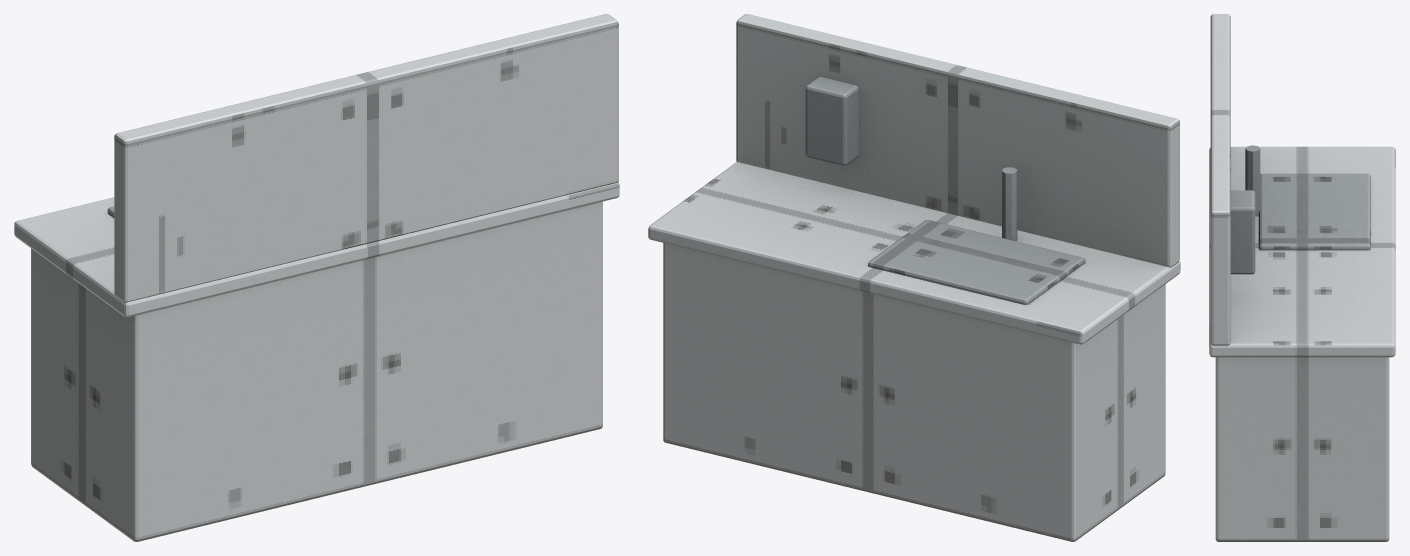
Rendered from base_med_sink.glb.
3 views of the same model, side by side, from view 1: azimuth 30°, elevation 25°; view 2: azimuth 150°, elevation 25°; view 3: azimuth 270°, elevation 25° (orthographic). The views are drawn at different scales.
Visible parts, largest first — view 1: base_med_sink.002; view 2: base_med_sink.002; view 3: base_med_sink.002.
Part boxes in pixels (<box>): base_med_sink.002: <box>14,14,619,541</box>; base_med_sink.002: <box>648,14,1180,541</box>; base_med_sink.002: <box>1209,14,1395,541</box>.
Bounding box in the file's own units: 1.9 × 1.5 × 0.75.
Materials: 2 (2 with a texture image).
